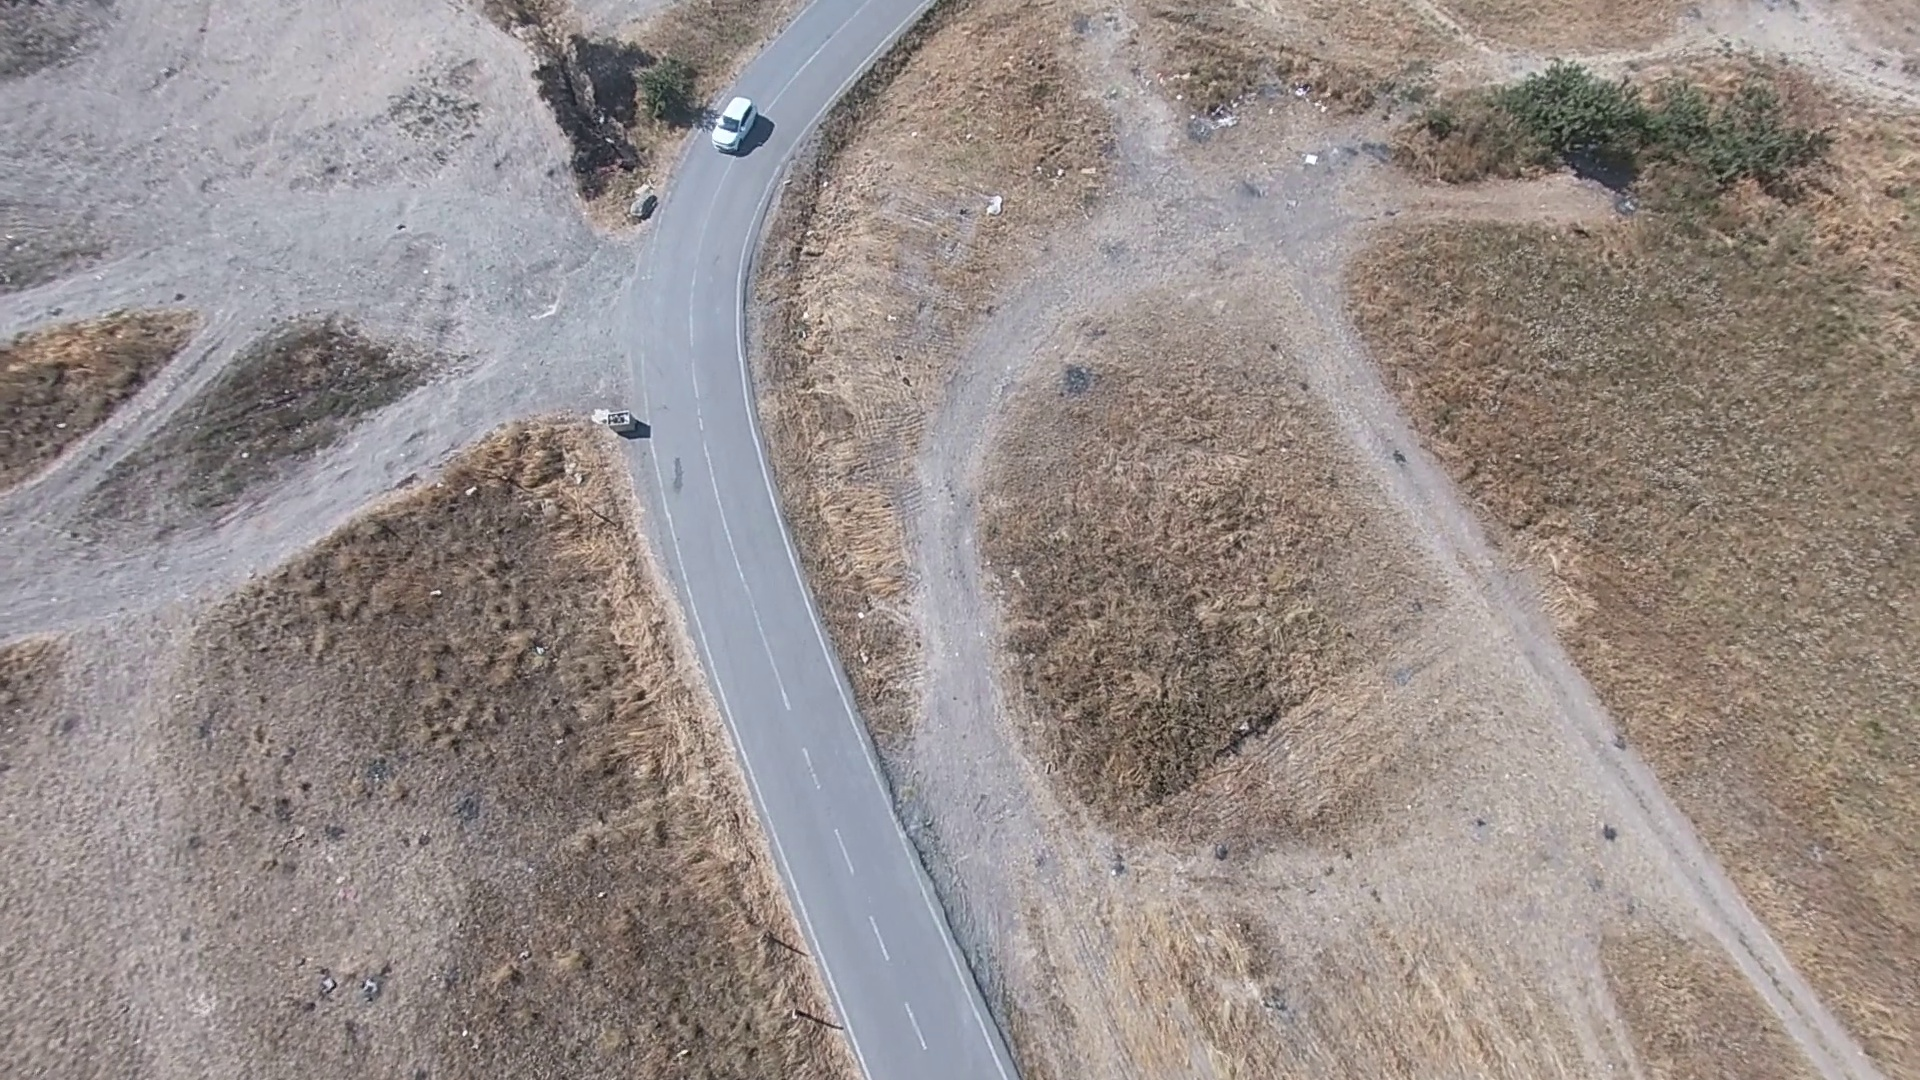araba: (713, 91, 765, 158)
